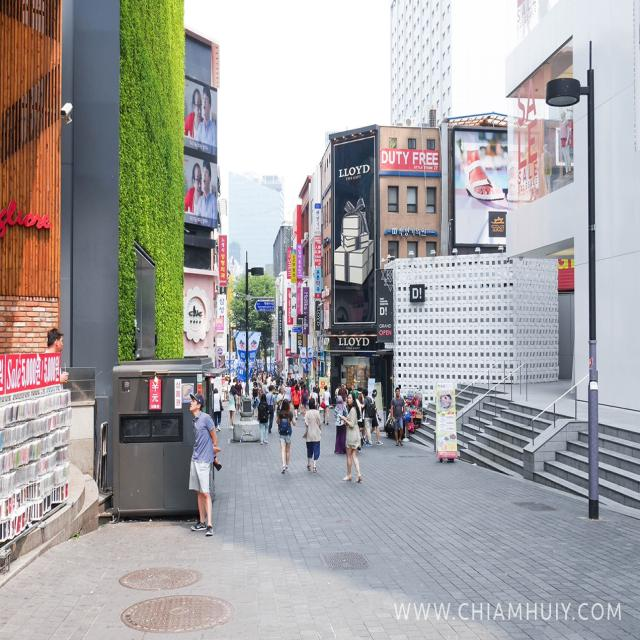body: (188, 390, 223, 538), (458, 130, 494, 205), (183, 82, 216, 151), (341, 389, 363, 484), (187, 161, 218, 224), (276, 396, 297, 474), (301, 396, 322, 472), (44, 328, 69, 390), (361, 389, 384, 446), (558, 111, 574, 177), (359, 388, 376, 448), (390, 386, 406, 447), (333, 394, 348, 455), (256, 392, 271, 446), (538, 141, 554, 188), (212, 386, 225, 432), (225, 384, 238, 430), (265, 384, 276, 434), (357, 394, 367, 443), (321, 384, 332, 425), (354, 398, 362, 454), (276, 385, 288, 417), (250, 380, 260, 418), (292, 384, 302, 421), (300, 382, 309, 420), (234, 378, 243, 414), (337, 382, 348, 408), (250, 368, 268, 382), (349, 384, 363, 400), (283, 382, 292, 406), (309, 386, 318, 409), (221, 377, 229, 402), (334, 382, 342, 407), (238, 378, 245, 406), (361, 364, 370, 384), (290, 381, 297, 405), (314, 381, 320, 409), (342, 382, 349, 402), (277, 380, 286, 394), (226, 378, 231, 401), (275, 374, 281, 392), (242, 377, 248, 394), (262, 381, 269, 395), (286, 376, 300, 382), (272, 370, 282, 378), (267, 373, 272, 388), (309, 376, 316, 386), (270, 377, 276, 388), (338, 389, 343, 401), (342, 388, 348, 398), (299, 377, 304, 384), (275, 376, 284, 379), (232, 376, 236, 382)
